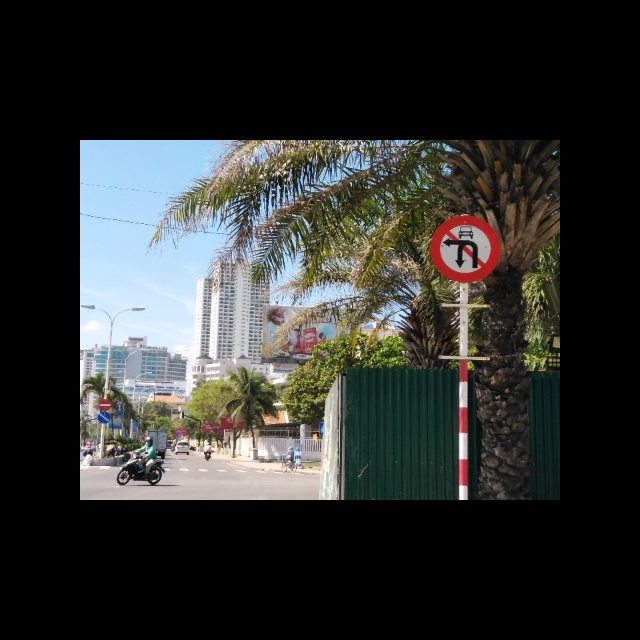Cấm xe ô tô quay đầu và rẽ trái: (430, 211, 502, 283)
